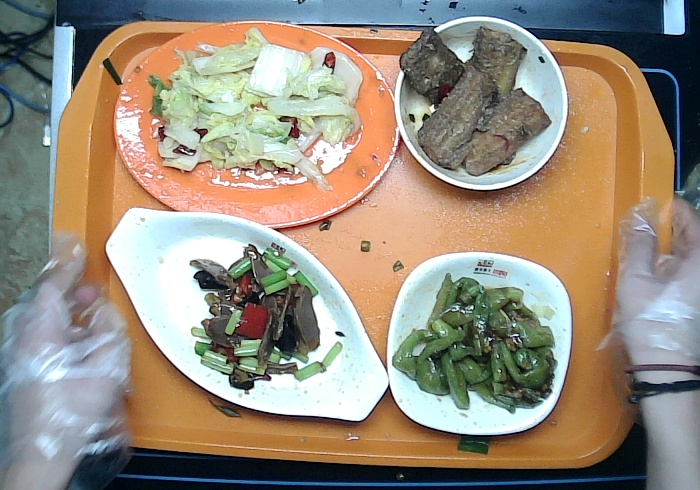NLDX-Bai_Se_Xiao_Fang_Die: (385, 250, 574, 437)
NLDX-Fan_Wan: (393, 13, 570, 192)
NLDX-Ju_Se_Pan: (112, 18, 401, 229)
NLDX-Yu_Pan: (103, 205, 390, 423)
